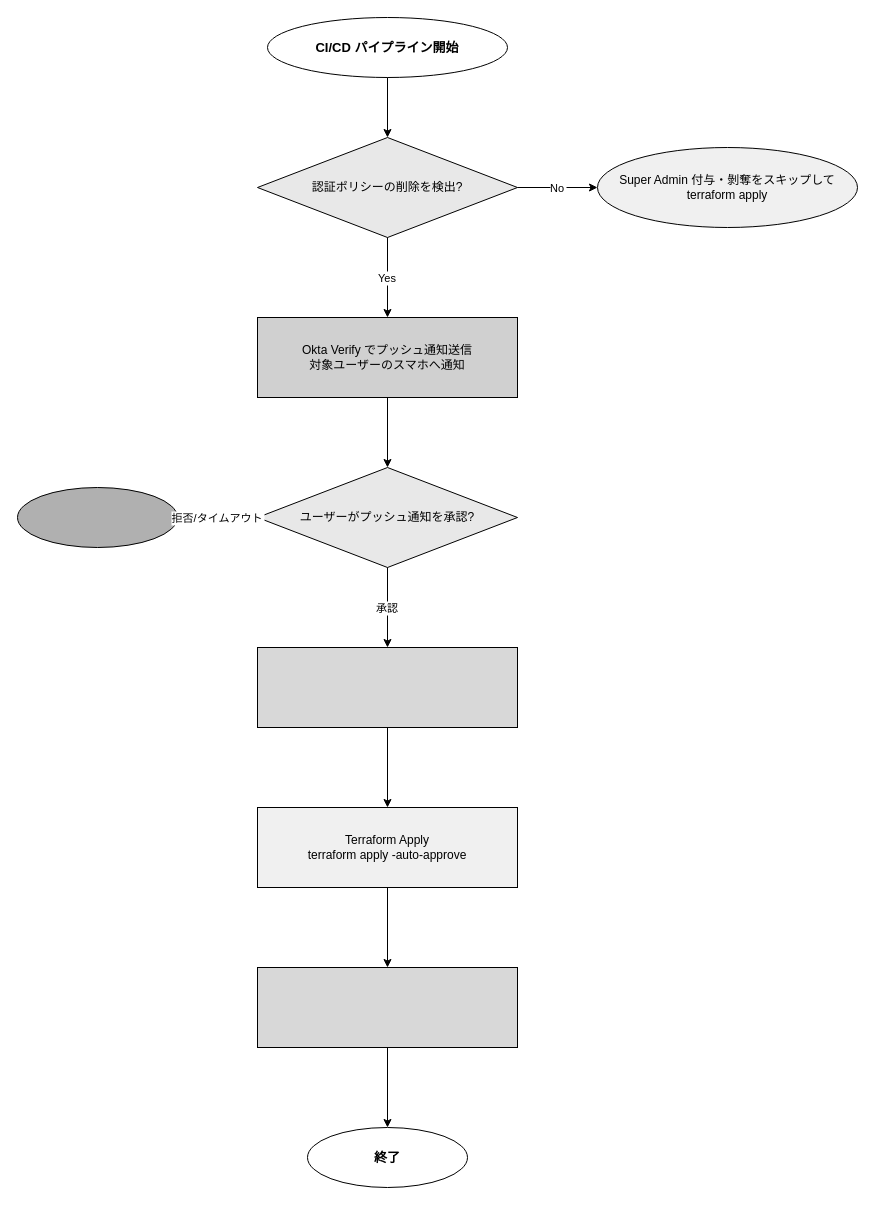
The diagram is 875 pixels wide and 1205 high, and some of its shapes have lost their labels. Each missing label, with the centre of its shape:
"SUPER_ADMIN ロール付与 Terraform 用アプリに一時付与" belongs at pixel 387 687.
"SUPER_ADMIN ロール即時剝奪 Terraform 完了後すぐに削除" belongs at pixel 387 1007.
"エラー終了" belongs at pixel 97 517.
